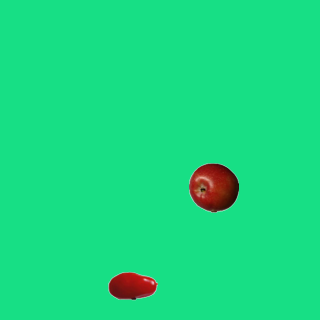Apple Braeburn: (188, 162, 238, 212)
Tomato 2: (107, 260, 157, 310)
